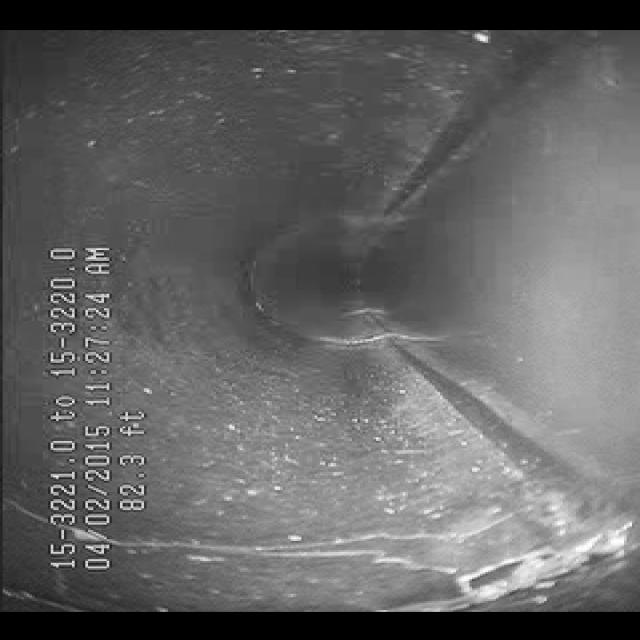Crack: (138, 522, 544, 596)
